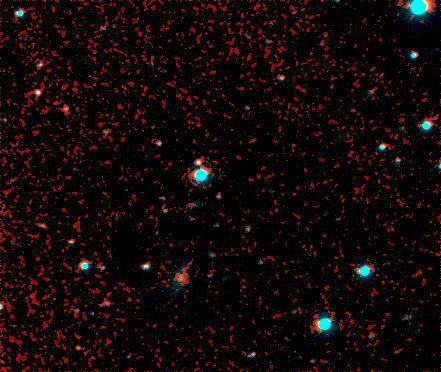star: (33, 208, 63, 238)
